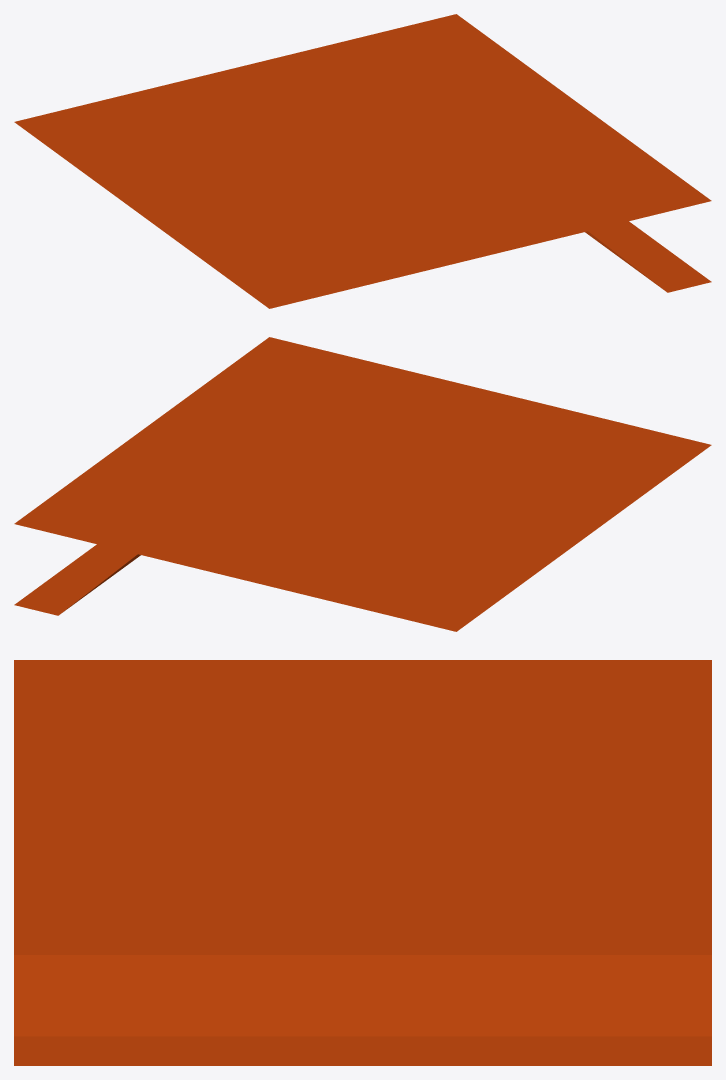
The model's file is way construct top tile.FBX.
3 renders of one model, top to bottom at view 1: azimuth 30°, elevation 25°; view 2: azimuth 150°, elevation 25°; view 3: azimuth 270°, elevation 25°, orthographic. The views are drawn at different scales.
Visible parts, largest first — view 1: Object1221332; view 2: Object1221332; view 3: Object1221332.
Part boxes in pixels (<box>): Object1221332: <box>14,14,711,308</box>; Object1221332: <box>14,337,711,631</box>; Object1221332: <box>14,660,711,1065</box>.
Bounding box in the file's own units: 4 × 0.7001 × 4.
